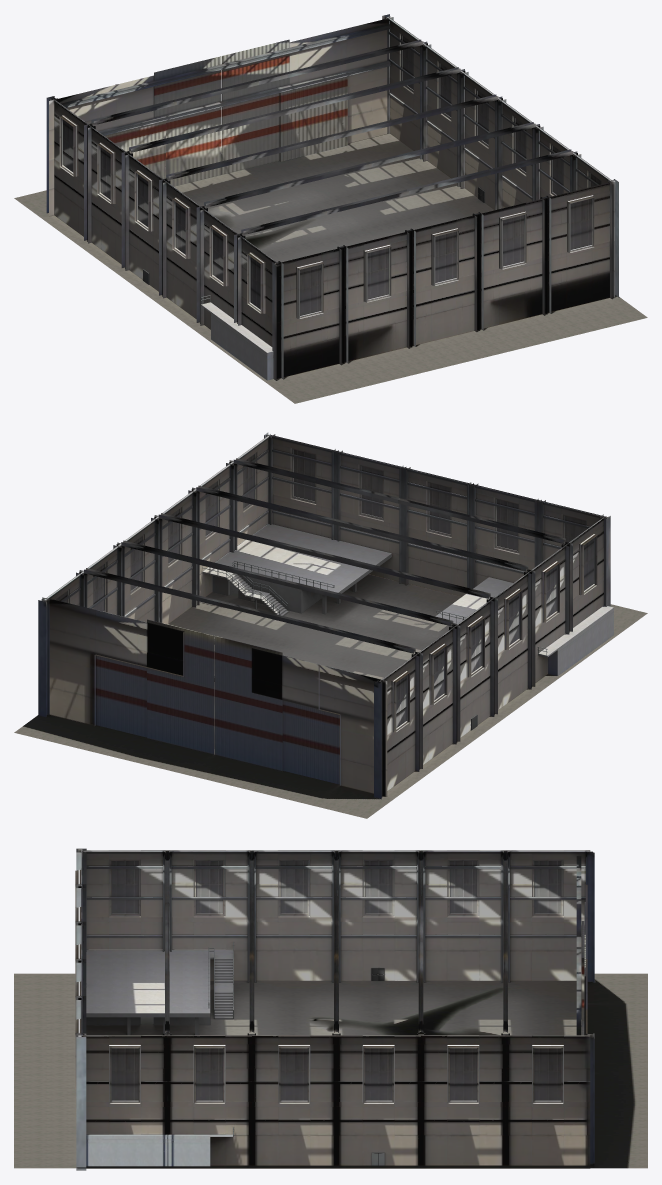
File: Hangar_p1.2_min.glb
3 renders of one model, top to bottom at view 1: azimuth 30°, elevation 25°; view 2: azimuth 150°, elevation 25°; view 3: azimuth 270°, elevation 25°, orthographic. The views are drawn at different scales.
Parts seen in each view (by area): view 1: Walls_Baked, Floor_Baked_Baked; view 2: Walls_Baked, Floor_Baked_Baked; view 3: Walls_Baked, Floor_Baked_Baked.
Boxes of the visible parts, x1,y1,x2,y2 form: Walls_Baked: [46, 14, 618, 380]; Floor_Baked_Baked: [14, 133, 647, 403]; Walls_Baked: [38, 432, 613, 799]; Floor_Baked_Baked: [14, 574, 647, 818]; Walls_Baked: [75, 848, 594, 1170]; Floor_Baked_Baked: [14, 973, 647, 1168].
Size of the model in its own units: 50.93 by 16.91 by 70.19.
Materials: 2 (2 with a texture image).
